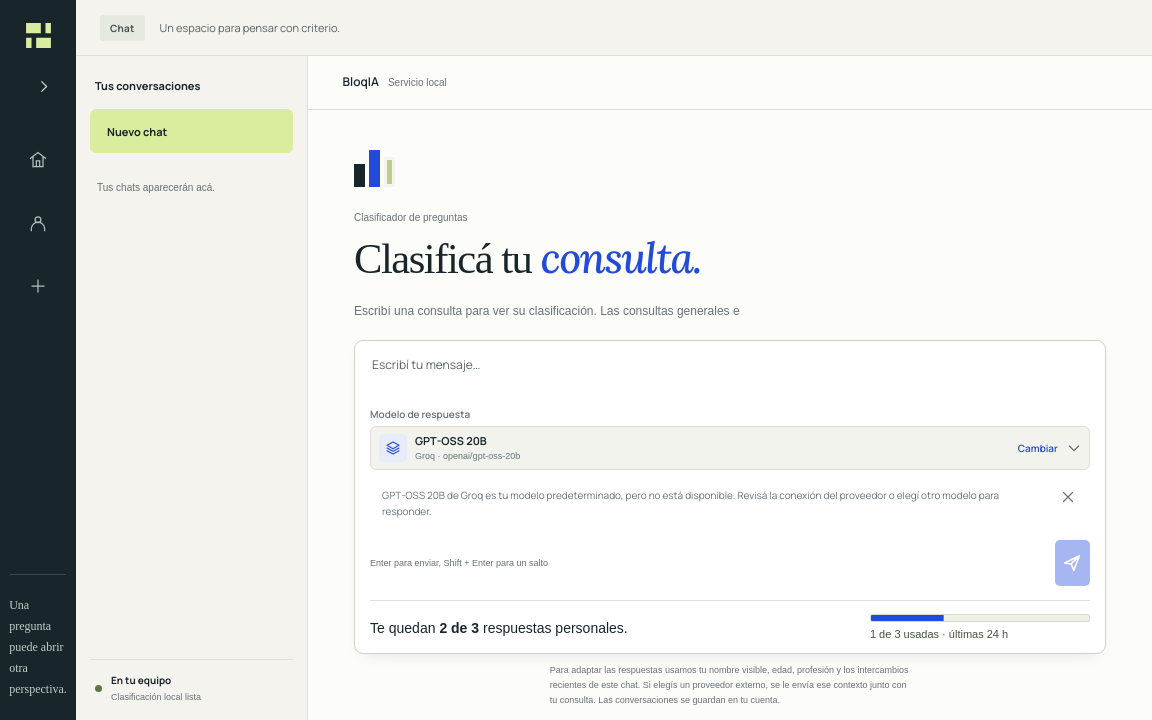
Test: general responses appear directly and old usage responses retain the quota fallback
Click the dropdown named "Modelo de respuesta". click: (451, 440)
box: [370,426,1090,470]
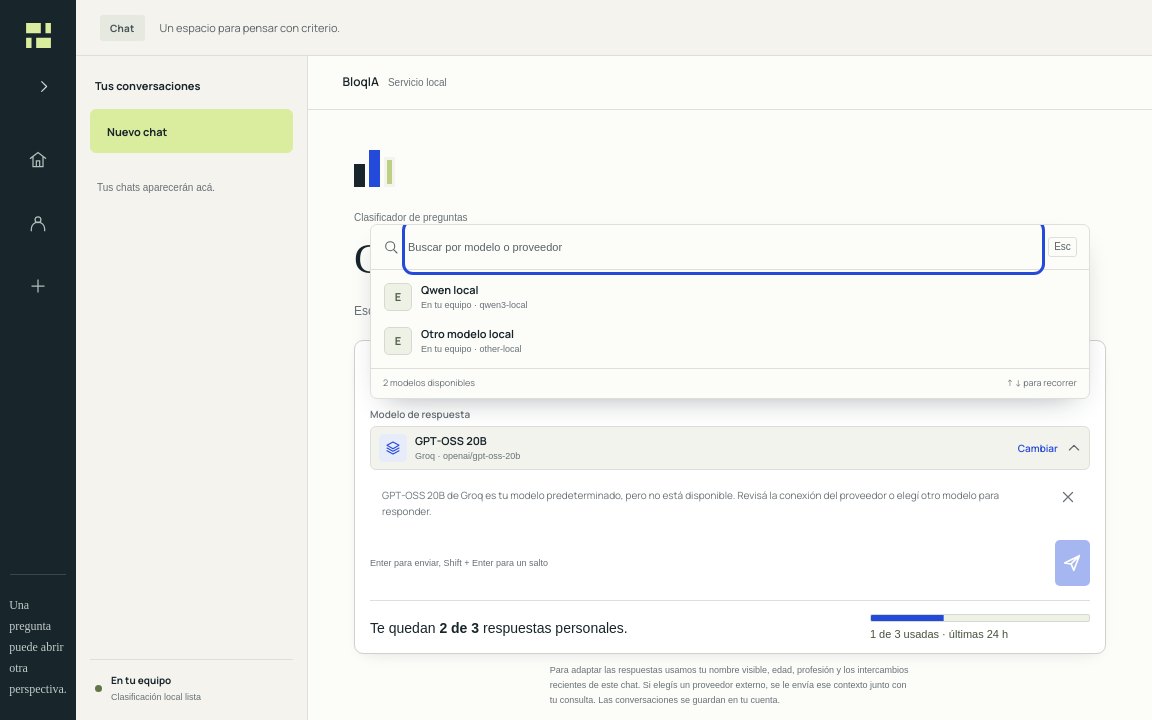
Click the option "E Otro modelo local En tu equipo · other-local". click: (468, 334)
box: [376,319,1084,363]
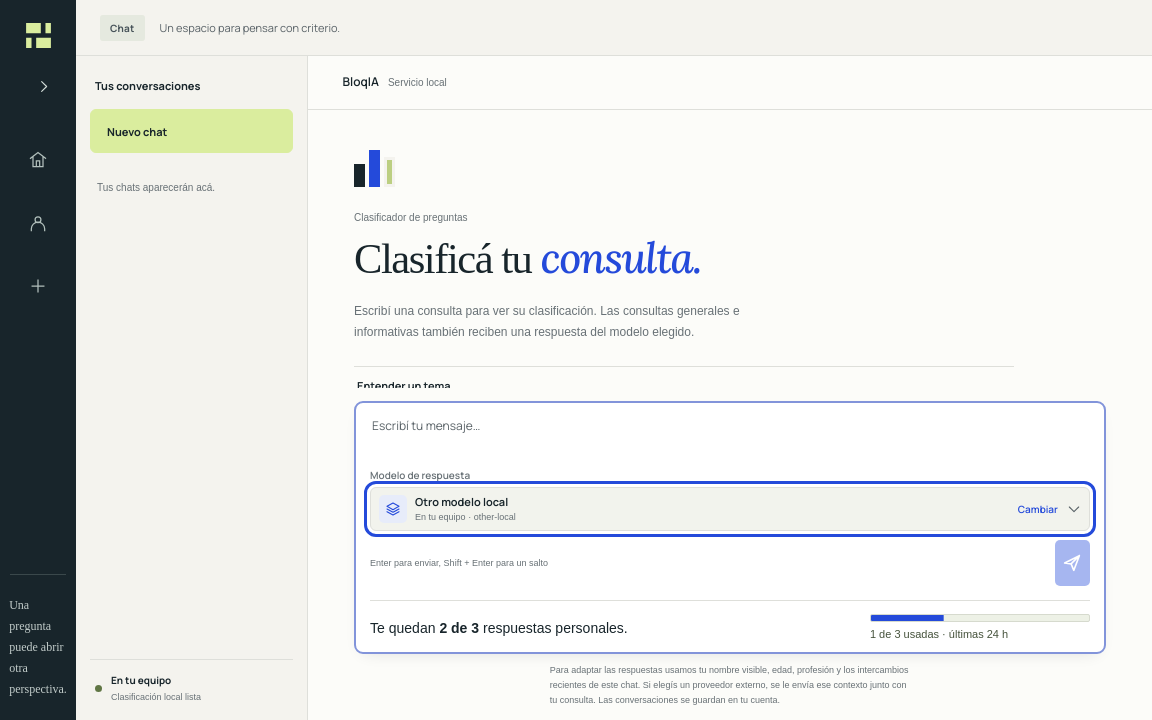
Type "¿Qué factores debería considerar antes de cambiar de trabajo?" into the text box named "Mensaje para BloqIA". click: (730, 437)
box: [370,416,1090,459]
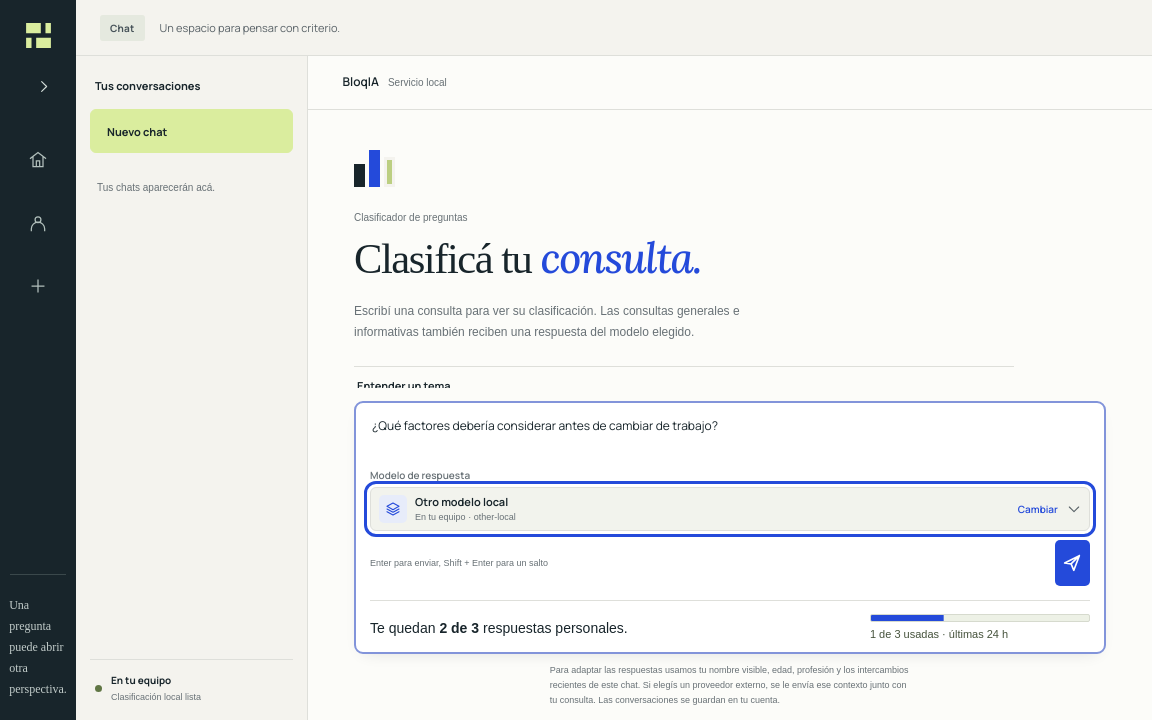
Click the button named "Enviar mensaje". click: (1072, 563)
box: [1055,540,1090,586]
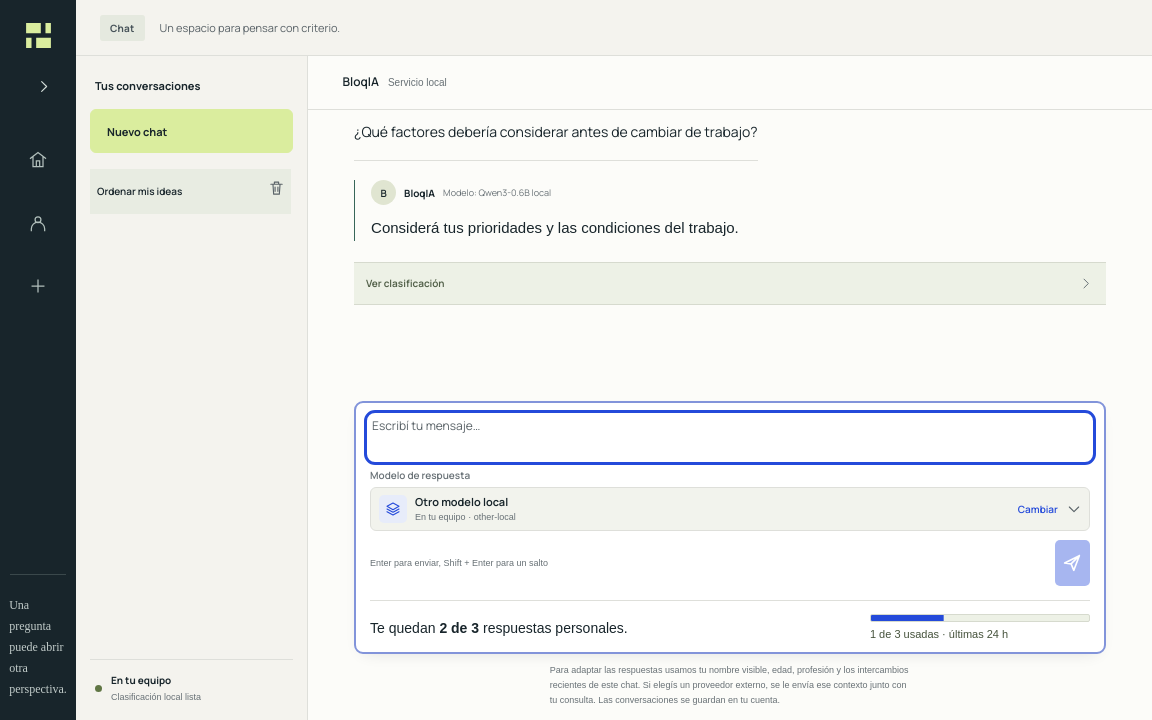
Expected: the element named "Cupo de respuestas personales" shows "Te quedan 2 de 3 respuestas personales.", [370,600,1090,644]
Expected: the element named "Respuesta de BloqIA" is shown, [354,180,1106,241]
